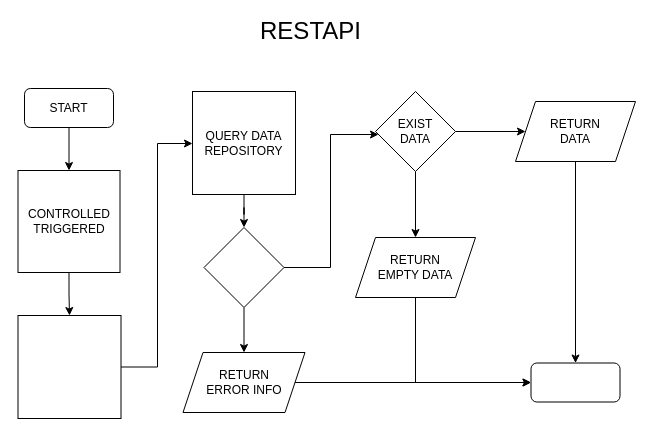
Image size: 653x436. Some labels were removed from this diagram. Here are the shapes that lost their labels. From the top down, the centre of each, then its label:
At point (243, 267): "ERROR".
At point (69, 366): "CALL SERVICE".
At point (575, 382): "END".
